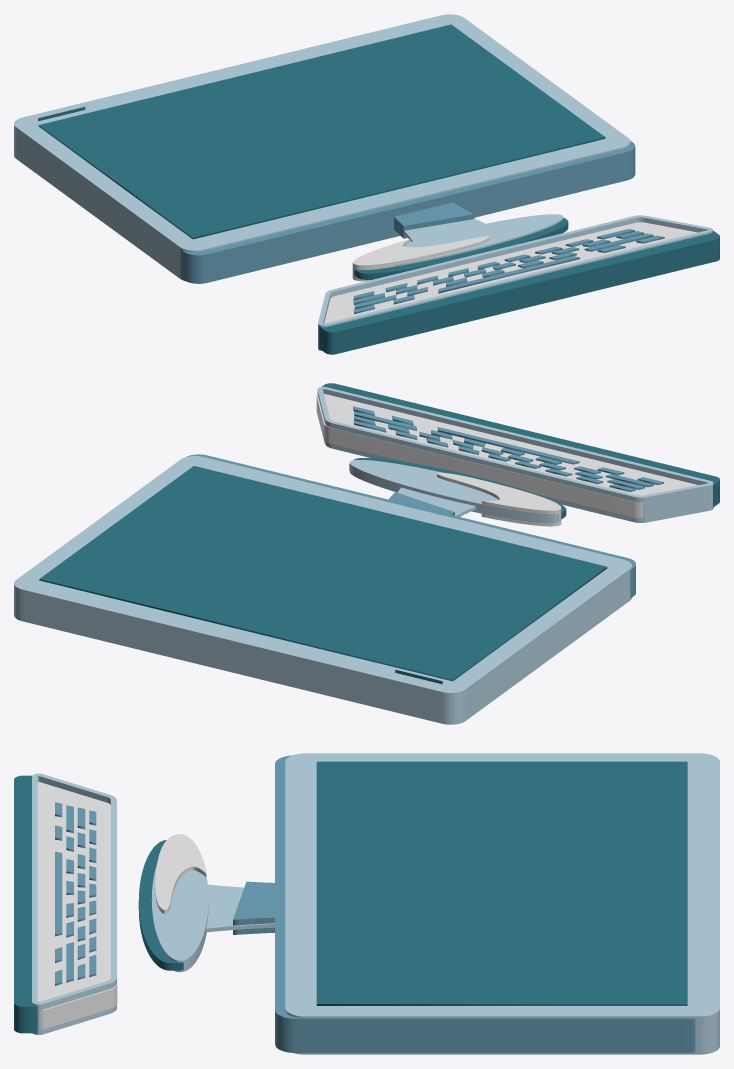
Rendered from emoji_u1f5a5.glb.
The picture shows the model from 3 angles, top to bottom: view 1: azimuth 30°, elevation 25°; view 2: azimuth 150°, elevation 25°; view 3: azimuth 270°, elevation 25°; orthographic projection. The views are drawn at different scales.
Parts seen in each view (by area): view 1: emoji_u1f5a5; view 2: emoji_u1f5a5; view 3: emoji_u1f5a5.
Boxes of the visible parts, x1,y1,x2,y2 form: emoji_u1f5a5: [14, 14, 719, 354]; emoji_u1f5a5: [14, 383, 719, 724]; emoji_u1f5a5: [14, 753, 719, 1054].
Size of the model in its own units: 0.0296 by 0.0024 by 0.0335.
